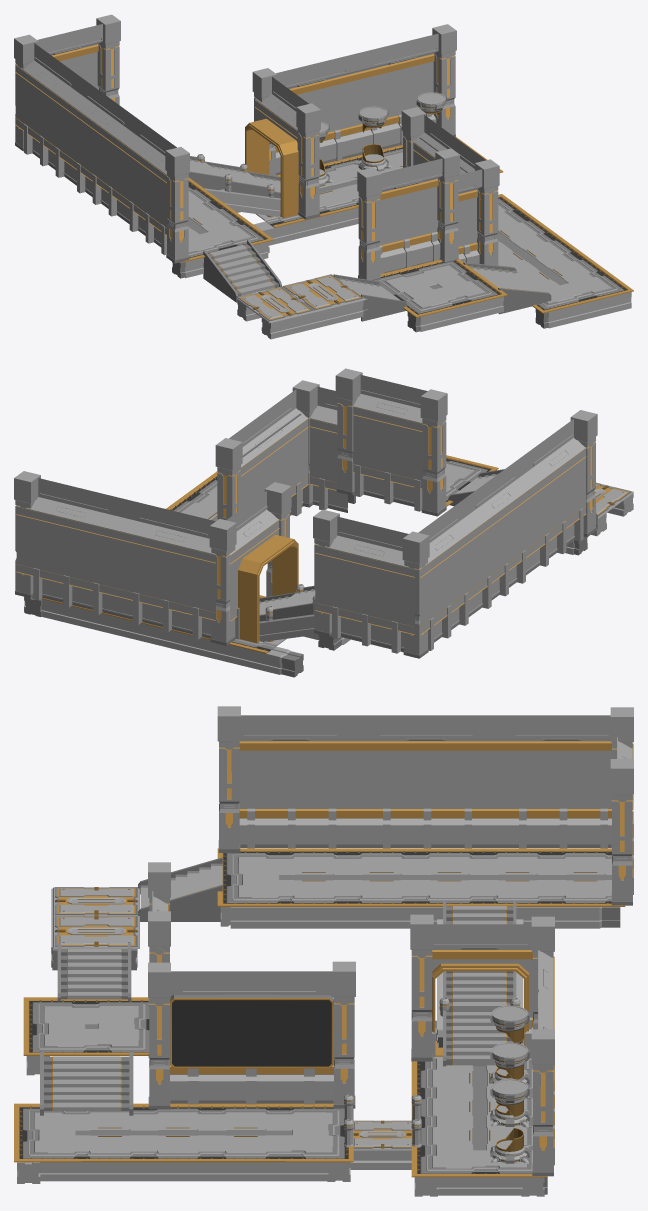
Rendered from stanze-v1-alternative-1.glb.
3 views of the same model, one above another, from view 1: azimuth 30°, elevation 25°; view 2: azimuth 150°, elevation 25°; view 3: azimuth 270°, elevation 25° (orthographic). The views are drawn at different scales.
Visible parts, largest first — view 1: Plane.011, Plane.005, Plane.014, Plane.006, Plane.010, Plane.004, Plane.312, Plane.003, Plane.016, Plane.044, Plane.019, Plane.015 (+39 smaller); view 2: Plane.010, Plane.011, Plane.007, Plane.014, Plane.005, Plane.004, Plane.006, Plane.312, Plane.111, Plane.049, Plane.040, Plane.016 (+17 smaller); view 3: Plane.005, Plane.004, Plane.006, Cube.029, Plane.111, Plane.054, Plane.312, Plane.051, Plane.319, Plane.001, Plane.034, Plane.035 (+44 smaller).
Part boxes in pixels (<box>): Plane.011: <box>355,33,438,155</box>; Plane.005: <box>68,76,131,221</box>; Plane.014: <box>379,158,442,273</box>; Plane.006: <box>15,43,78,182</box>; Plane.010: <box>274,52,360,175</box>; Plane.004: <box>121,114,176,255</box>; Plane.312: <box>245,77,308,218</box>; Plane.003: <box>203,239,281,302</box>; Plane.016: <box>357,167,381,280</box>; Plane.044: <box>296,103,320,219</box>; Plane.019: <box>165,147,189,263</box>; Plane.015: <box>435,148,459,262</box>; Plane.010: <box>116,498,215,639</box>; Plane.011: <box>16,478,122,616</box>; Plane.007: <box>315,516,414,653</box>; Plane.014: <box>337,375,427,511</box>; Plane.005: <box>466,456,535,614</box>; Plane.004: <box>523,419,586,572</box>; Plane.006: <box>418,498,477,650</box>; Plane.312: <box>226,491,298,643</box>; Plane.111: <box>229,389,308,516</box>; Plane.049: <box>24,596,303,677</box>; Plane.040: <box>309,386,347,512</box>; Plane.016: <box>420,389,447,516</box>; Plane.005: <box>360,715,495,848</box>; Plane.004: <box>239,715,359,848</box>; Plane.006: <box>495,715,611,848</box>; Cube.029: <box>170,995,332,1068</box>; Plane.111: <box>169,971,334,1104</box>; Plane.054: <box>230,907,620,928</box>; Plane.312: <box>411,924,533,1057</box>; Plane.051: <box>38,1162,328,1181</box>; Plane.319: <box>40,1052,133,1115</box>; Plane.001: <box>217,1103,285,1162</box>; Plane.034: <box>353,848,421,906</box>; Plane.035: <box>285,848,353,906</box>.
Size of the model in its own units: 12.38 by 5.45 by 12.78.
